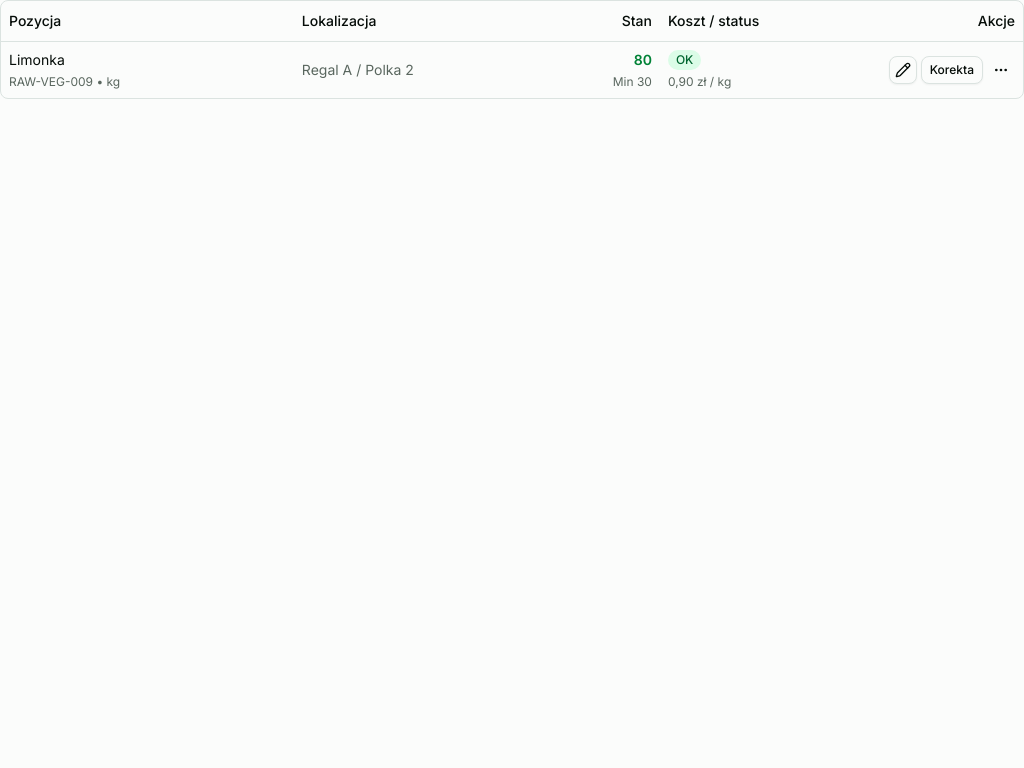
Test: StockTable › uses a single correction action that opens the adjustment dialog
The image size is (1024, 768).
What coordinates should you click on to do the following:
click the button "Korekta"
I would click on:
 (952, 70)
Its box is [921,56,983,84].
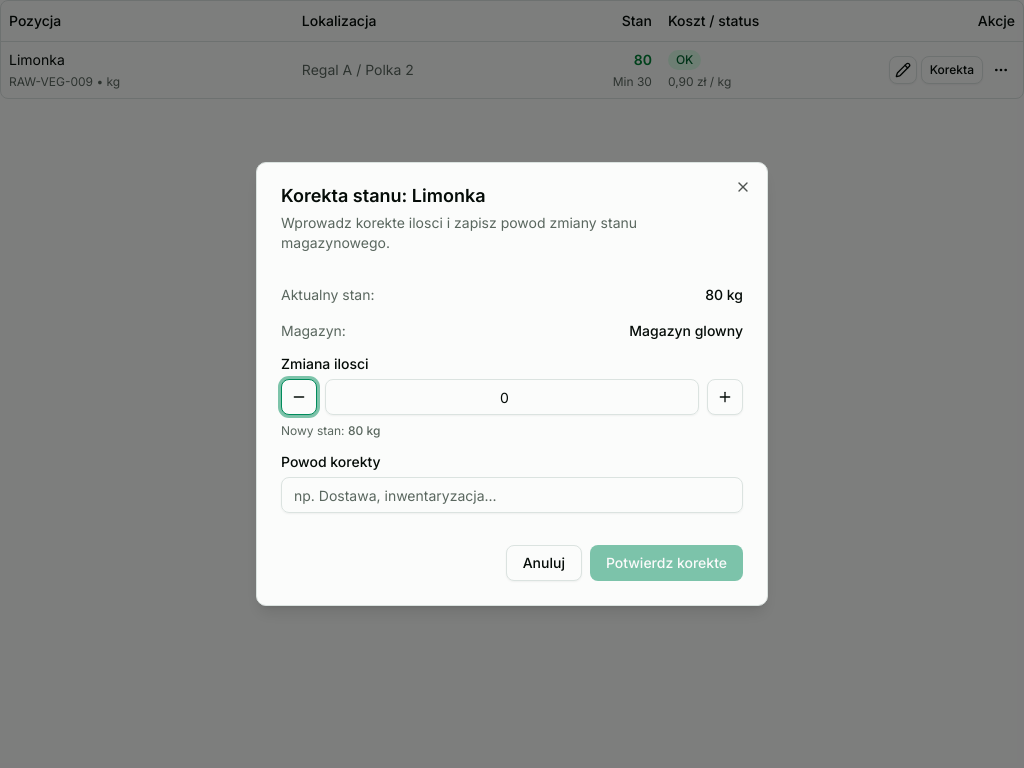
expect the heading "Korekta stanu: Limonka" is shown: met, box [281,185,486,206]
